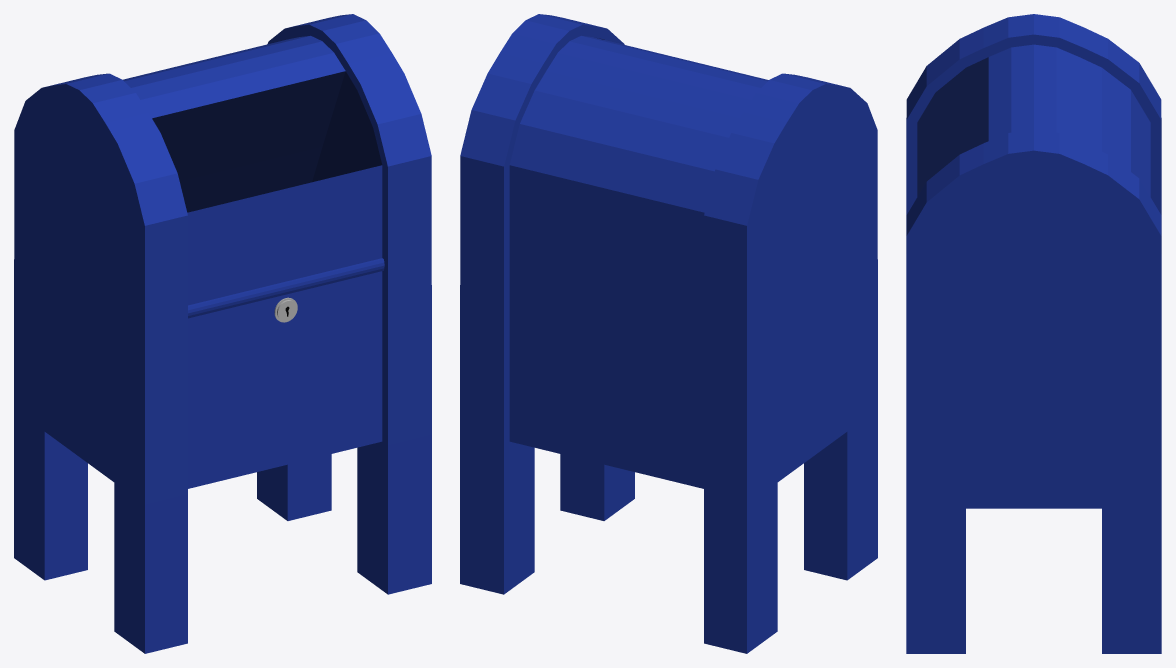
Rendered from bookBox.glb.
3 views of the same model, side by side, from view 1: azimuth 30°, elevation 25°; view 2: azimuth 150°, elevation 25°; view 3: azimuth 270°, elevation 25° (orthographic). The views are drawn at different scales.
Parts seen in each view (by area): view 1: Cube; view 2: Cube; view 3: Cube.
Boxes of the visible parts, x1,y1,x2,y2 form: Cube: (14,14,431,653); Cube: (460,14,877,653); Cube: (906,14,1161,653).
Size of the model in its own units: 2 by 3.44 by 1.58.
